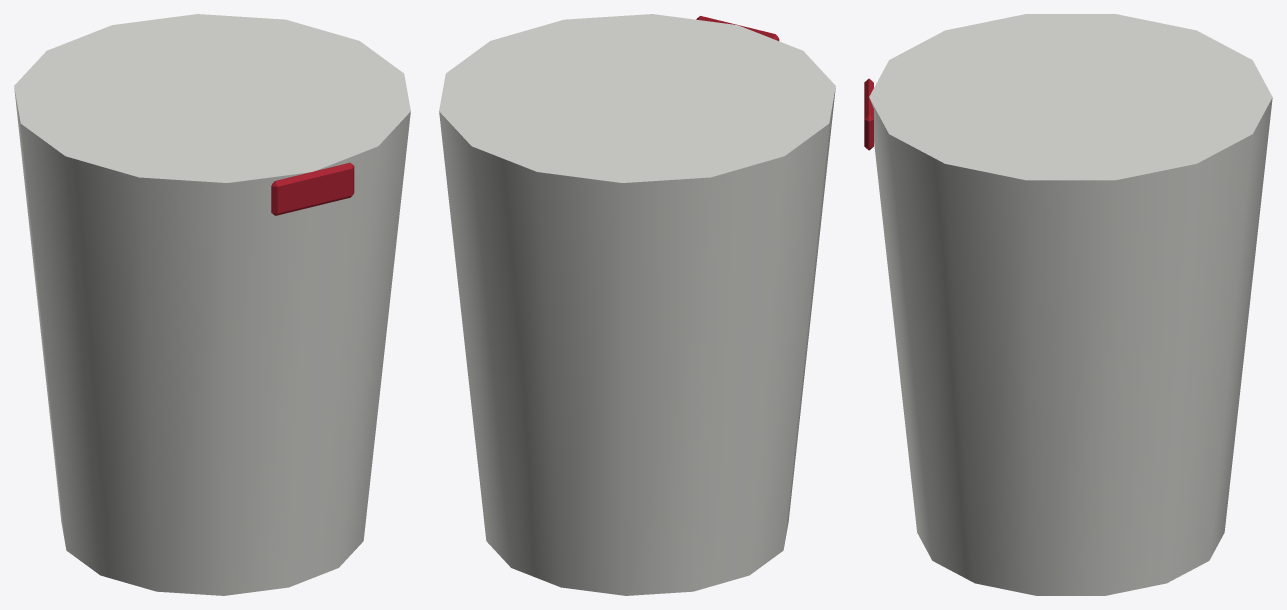
The model's file is copo_cafe.obj.
The picture shows the model from 3 angles, left to right: view 1: azimuth 30°, elevation 25°; view 2: azimuth 150°, elevation 25°; view 3: azimuth 270°, elevation 25°; orthographic projection.
Visible parts, largest first — view 1: copo_cafe; view 2: copo_cafe; view 3: copo_cafe.
Part boxes in pixels (x1=…): copo_cafe: x1=14, y1=14, x2=410, y2=595; copo_cafe: x1=439, y1=14, x2=835, y2=595; copo_cafe: x1=864, y1=14, x2=1272, y2=595.
Size of the model in its own units: 0.0819 by 0.1 by 0.085.
